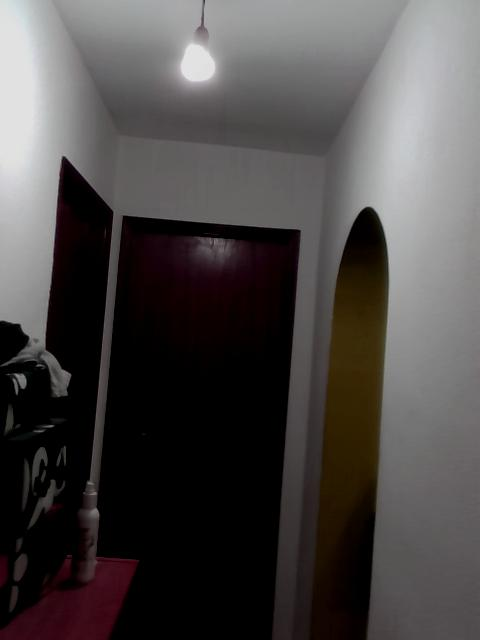closed_door: (92, 214, 297, 638)
